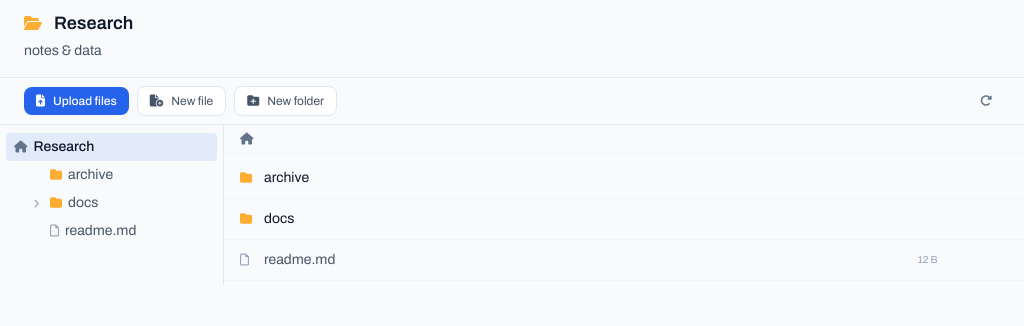
Test: ProjectPage explorer layout › breadcrumb navigates back to the root
This screenshot has width=1024, height=326.
Check: the element with test id "file-row-readme.md" is shown, box [224,240,1023,281]
What coordinates should you click on to do the following:
click the element with test id "file-row-docs"
I would click on:
 (624, 220)
Its box is [224,199,1023,240].
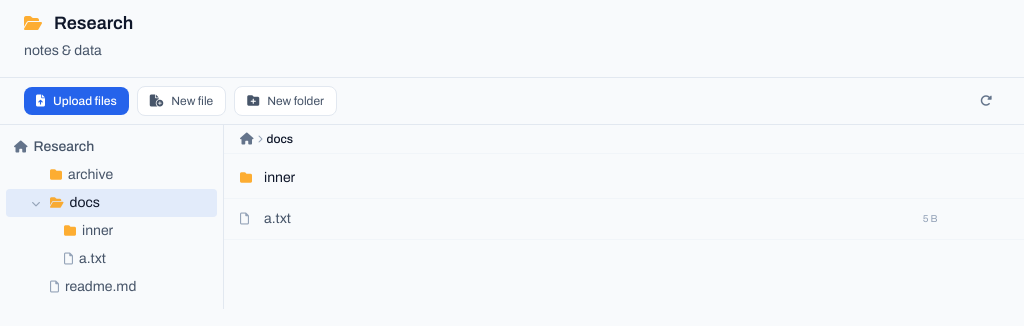
Check: the button with test id "crumb-docs" is shown, box [266,131,293,147]
What coordinates should you click on to do the following:
click the button named "Go to project root"
I would click on:
 (247, 139)
Its box is [240,131,254,147].
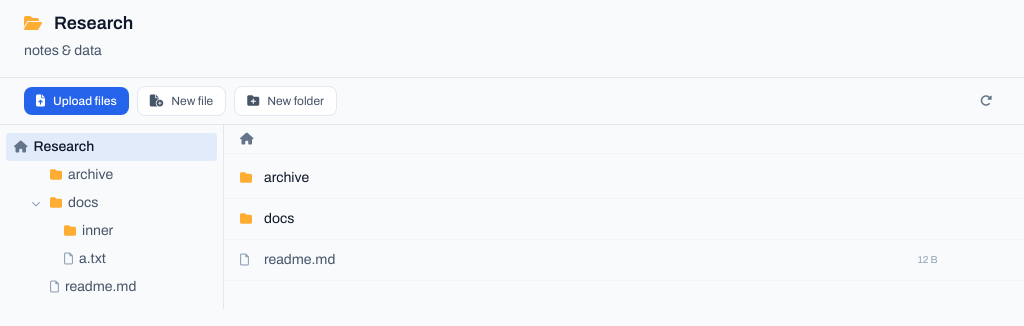
Check: the element with test id "file-row-readme.md" is shown, box [224,240,1023,281]
